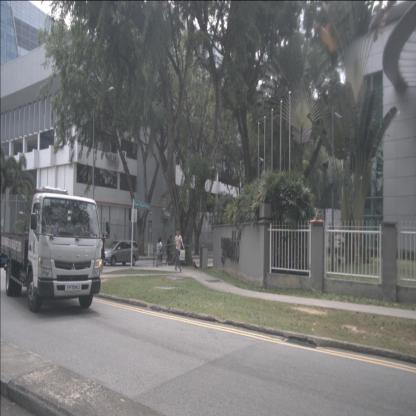human-pedestrian-adult: (174, 228, 185, 273), (164, 235, 172, 267), (99, 232, 105, 274), (156, 237, 164, 267), (156, 238, 161, 268)
vehicle-car: (103, 240, 139, 266)
vehicle-truck: (0, 187, 102, 313)
